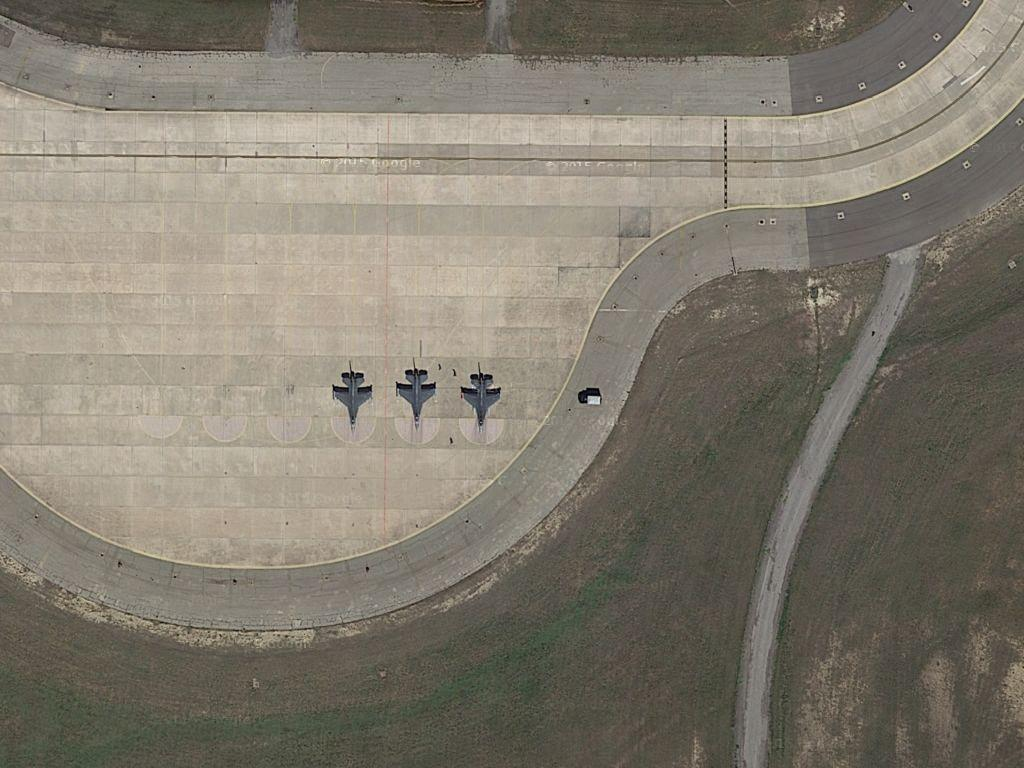F-16: (455, 364, 506, 435), (391, 360, 442, 428), (327, 364, 378, 431)
